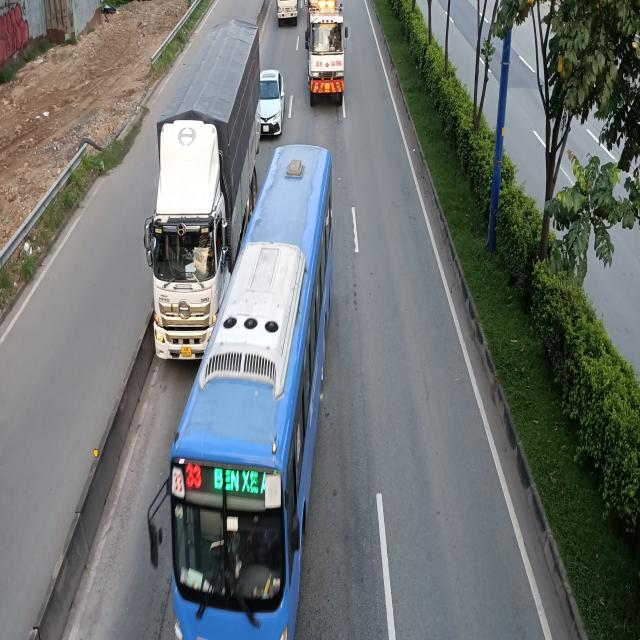car: (260, 68, 285, 137)
coach: (152, 143, 332, 638)
truck: (147, 14, 259, 361), (306, 0, 350, 102), (275, 0, 299, 24)
